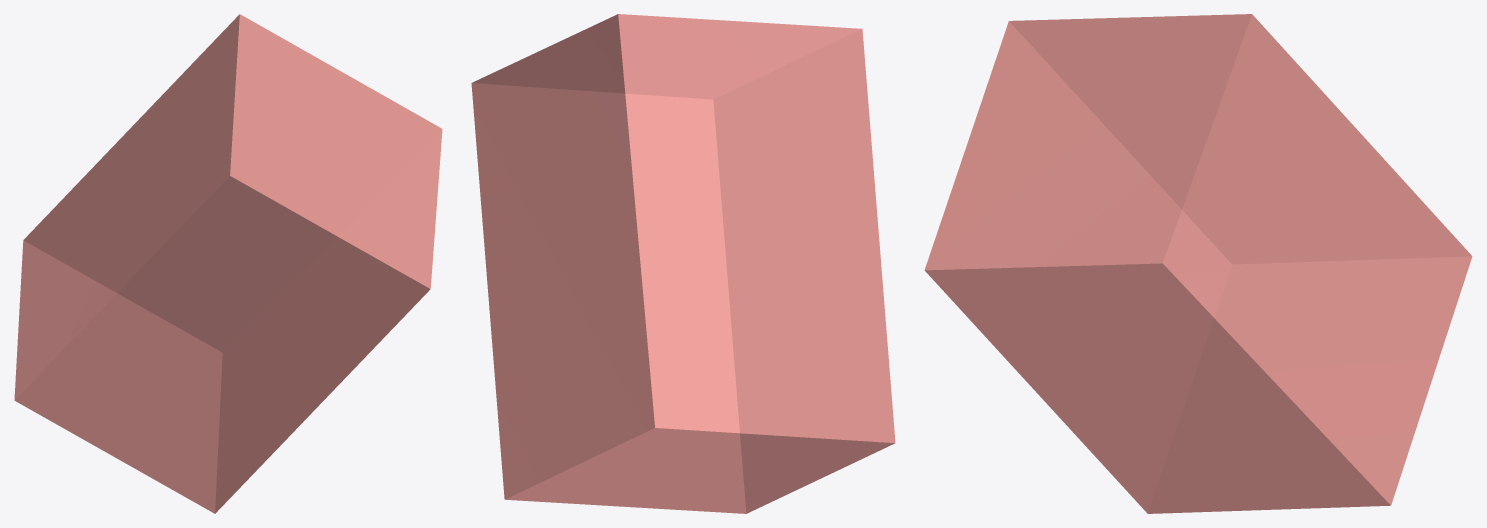
3 views of the same model, side by side, from view 1: azimuth 30°, elevation 25°; view 2: azimuth 150°, elevation 25°; view 3: azimuth 270°, elevation 25° (orthographic). The views are drawn at different scales.
Size of the model in its own units: 5.55 by 6 by 5.52.
